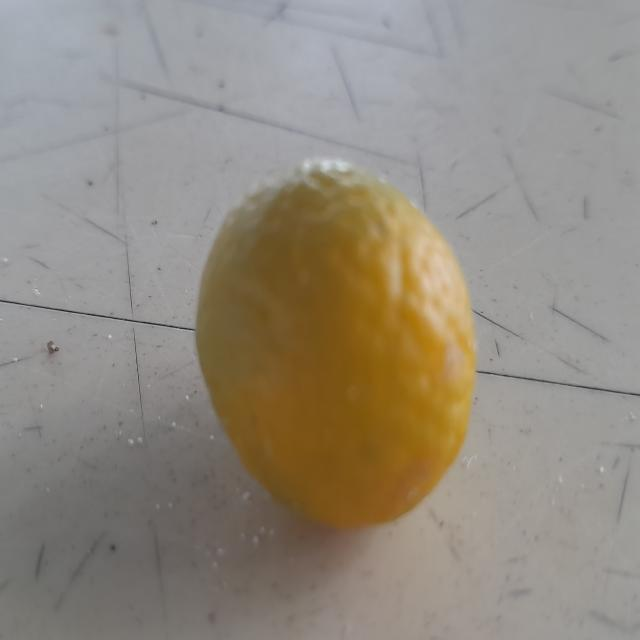greening: (190, 152, 480, 538)
